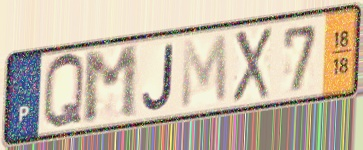7: (282, 21, 319, 95)
J: (140, 41, 176, 114)
M: (81, 42, 139, 128), (179, 31, 229, 112)
Q: (41, 51, 87, 133)
X: (230, 25, 274, 105)
